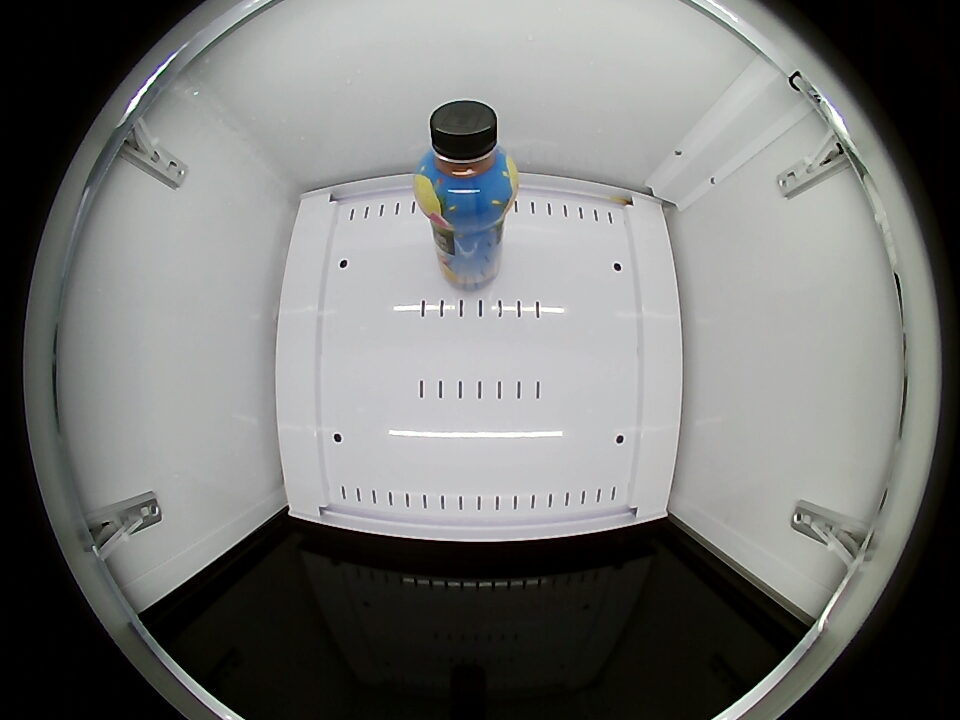guolicheng2: (416, 100, 517, 220)
